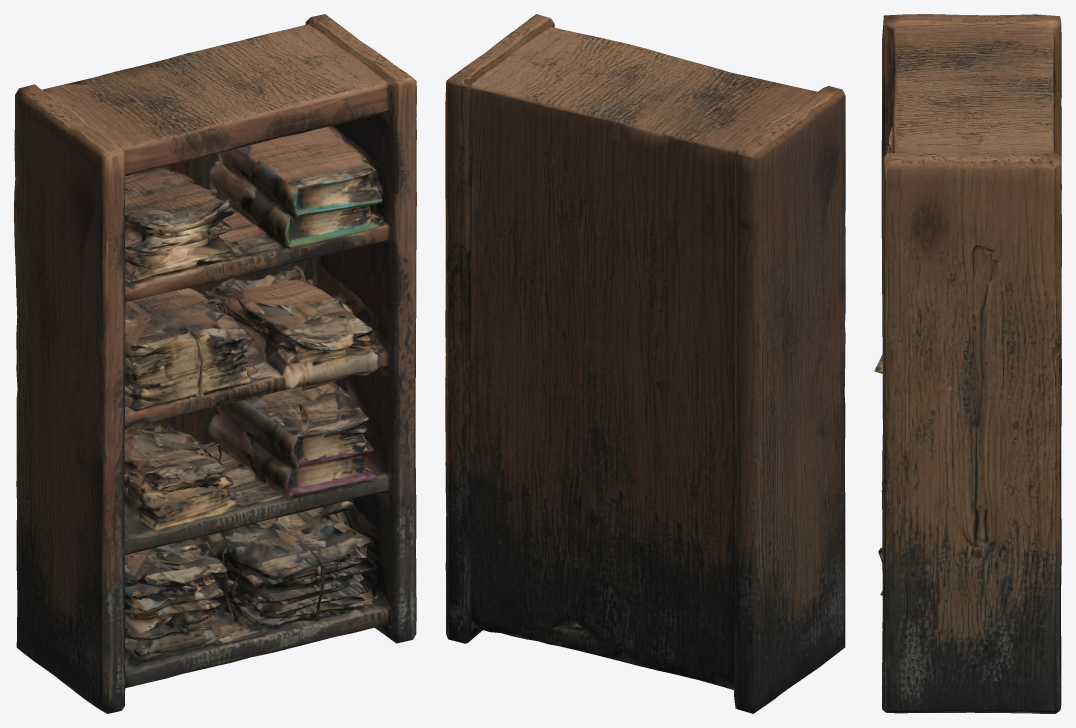
Rendered from Furn_Bookshelf_Burnt.fbx.
3 renders of one model, left to right at view 1: azimuth 30°, elevation 25°; view 2: azimuth 150°, elevation 25°; view 3: azimuth 270°, elevation 25°, orthographic.
Parts seen in each view (by area): view 1: texture_mapping; view 2: texture_mapping; view 3: texture_mapping.
Boxes of the visible parts, x1,y1,x2,y2 form: texture_mapping: (14,14,416,713); texture_mapping: (445,14,845,713); texture_mapping: (874,14,1061,713).
Bounding box in the file's own units: 0.5881 × 0.3078 × 1.
1 material, 1 textured.
